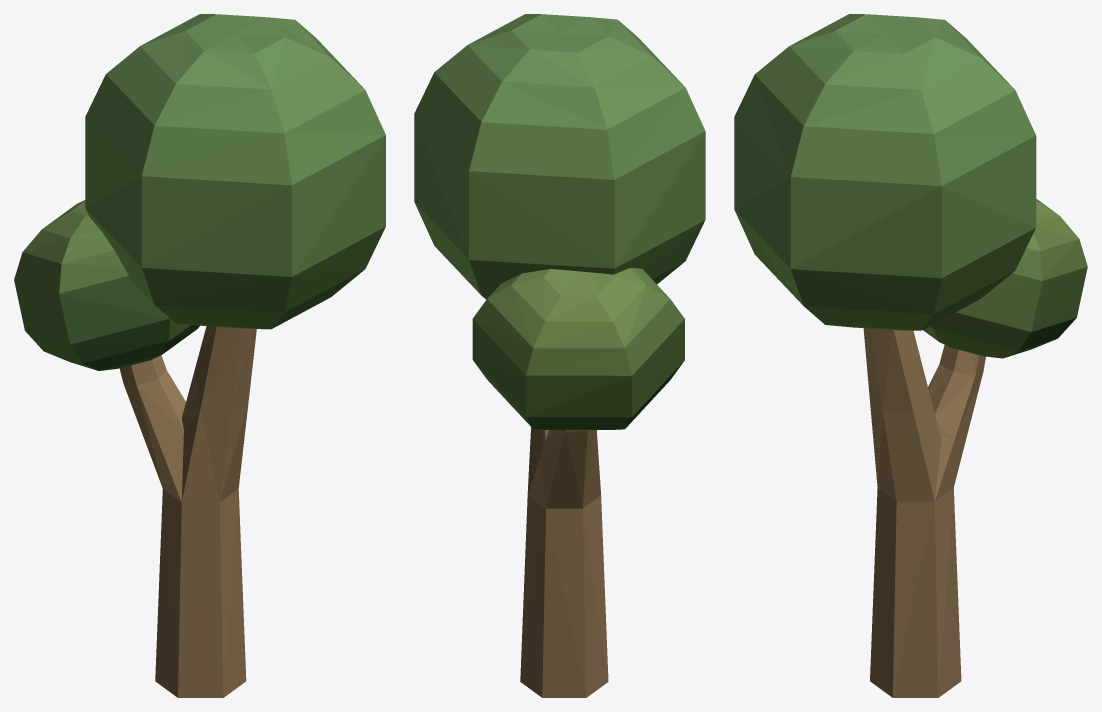
File: Prop_Tree_Oak_1.glb
3 views of the same model, side by side, from view 1: azimuth 30°, elevation 25°; view 2: azimuth 150°, elevation 25°; view 3: azimuth 270°, elevation 25° (orthographic). The views are drawn at different scales.
Visible parts, largest first — view 1: Prop_Tree_Oak_1_Merged; view 2: Prop_Tree_Oak_1_Merged; view 3: Prop_Tree_Oak_1_Merged.
Boxes of the visible parts, x1,y1,x2,y2 form: Prop_Tree_Oak_1_Merged: [14, 14, 385, 697]; Prop_Tree_Oak_1_Merged: [414, 14, 705, 697]; Prop_Tree_Oak_1_Merged: [734, 14, 1087, 697].
Size of the model in its own units: 2.09 by 4.75 by 2.32.
